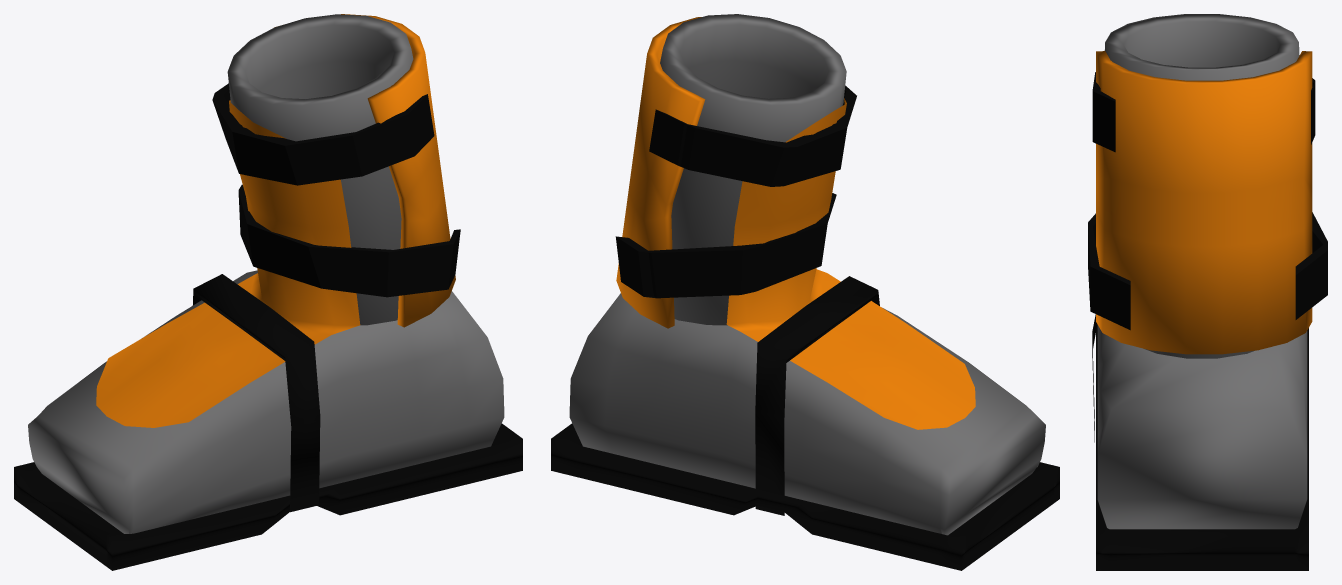
Rendered from SkiBoot 1.fbx.
The picture shows the model from 3 angles, left to right: view 1: azimuth 30°, elevation 25°; view 2: azimuth 150°, elevation 25°; view 3: azimuth 270°, elevation 25°; orthographic projection. The views are drawn at different scales.
Parts seen in each view (by area): view 1: Cube.001, Cube.002, Plane, Cylinder.001, Cube, Cube.003, Cylinder; view 2: Cube.001, Cube.002, Cylinder.001, Plane, Cube.003, Cylinder, Cube; view 3: Cylinder, Cube.001, Cylinder.001, Cube.002, Cube.003, Cube.
Boxes of the visible parts, left/top/right/bottom form: Cube.001: left=28, top=270, right=504, bottom=533; Cube.002: left=14, top=274, right=522, bottom=570; Plane: left=96, top=100, right=360, bottom=427; Cylinder.001: left=227, top=14, right=413, bottom=325; Cube: left=212, top=83, right=434, bottom=185; Cube.003: left=238, top=184, right=460, bottom=297; Cylinder: left=274, top=14, right=455, bottom=327; Cube.001: left=569, top=293, right=1045, bottom=535; Cube.002: left=551, top=276, right=1059, bottom=570; Cylinder.001: left=660, top=14, right=846, bottom=325; Plane: left=726, top=98, right=975, bottom=429; Cube.003: left=615, top=193, right=836, bottom=298; Cylinder: left=616, top=17, right=705, bottom=328; Cube: left=649, top=85, right=856, bottom=186; Cylinder: left=1096, top=51, right=1312, bottom=354; Cube.001: left=1097, top=325, right=1307, bottom=529; Cylinder.001: left=1104, top=14, right=1299, bottom=358; Cube.002: left=1092, top=314, right=1308, bottom=570; Cube.003: left=1088, top=212, right=1327, bottom=330; Cube: left=1092, top=72, right=1315, bottom=152.
Bounding box in the file's own units: 5.53 × 5.47 × 2.58.
